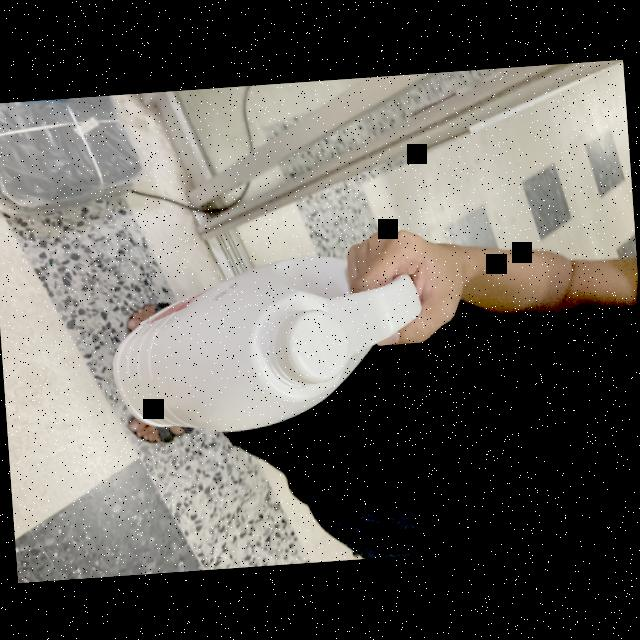chemical_plastic_gallon: (102, 242, 430, 442)
